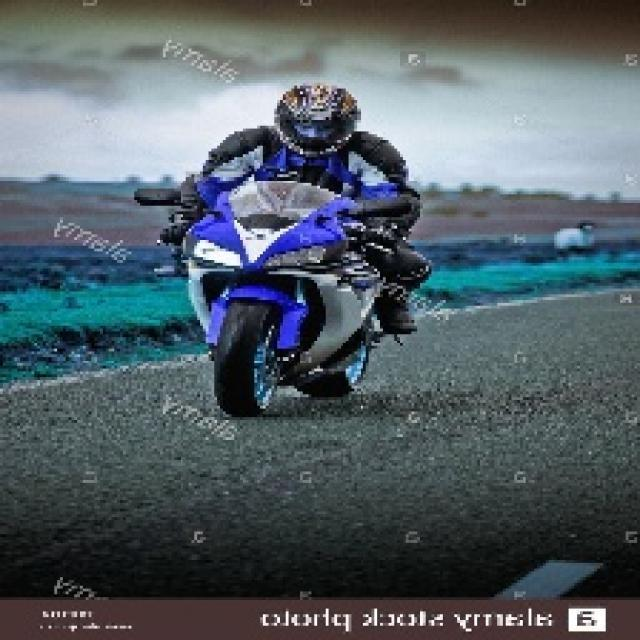bike: (154, 168, 418, 419)
